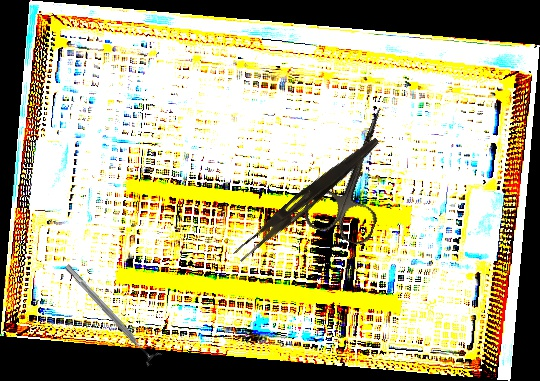Dressing Forceps: (232, 129, 382, 268)
Fixation Ring: (58, 258, 164, 369)
Iris Scissors: (299, 95, 415, 249)
